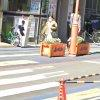crosswalks: (0, 55, 63, 99)
